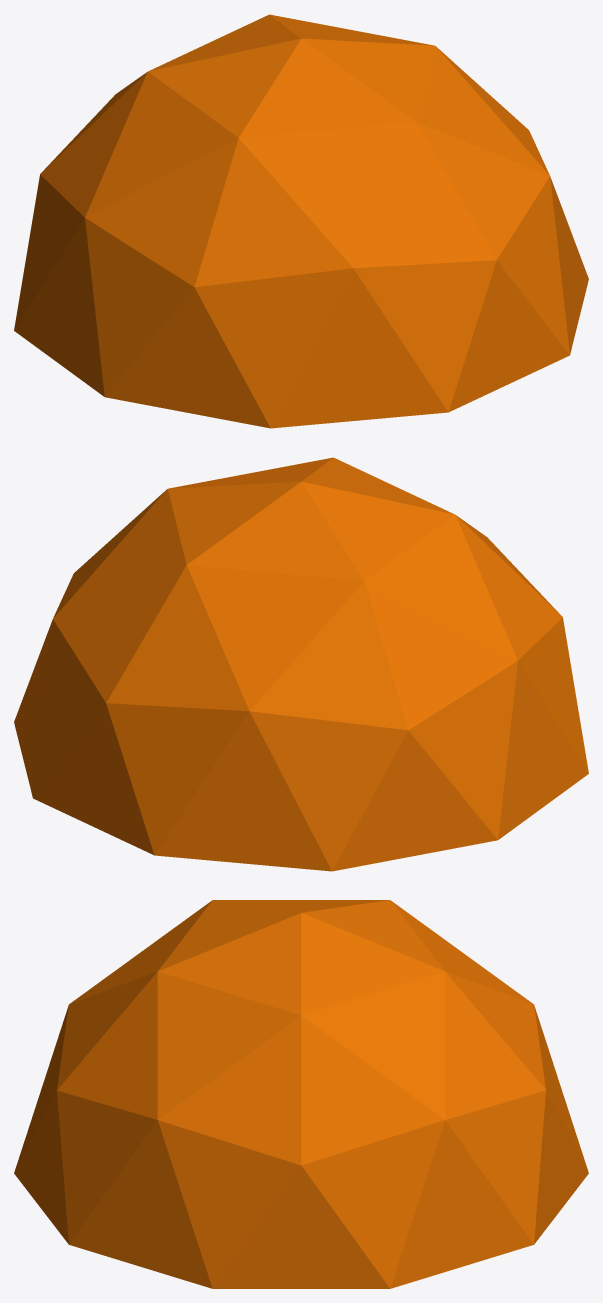
File: dome.fbx
3 views of the same model, one above another, from view 1: azimuth 30°, elevation 25°; view 2: azimuth 150°, elevation 25°; view 3: azimuth 270°, elevation 25° (orthographic). The views are drawn at different scales.
Parts seen in each view (by area): view 1: Icosphere; view 2: Icosphere; view 3: Icosphere.
Boxes of the visible parts, x1,y1,x2,y2 form: Icosphere: (14,14,588,428); Icosphere: (14,457,588,871); Icosphere: (14,900,588,1288).
Bounding box in the file's own units: 153 × 80.22 × 160.
